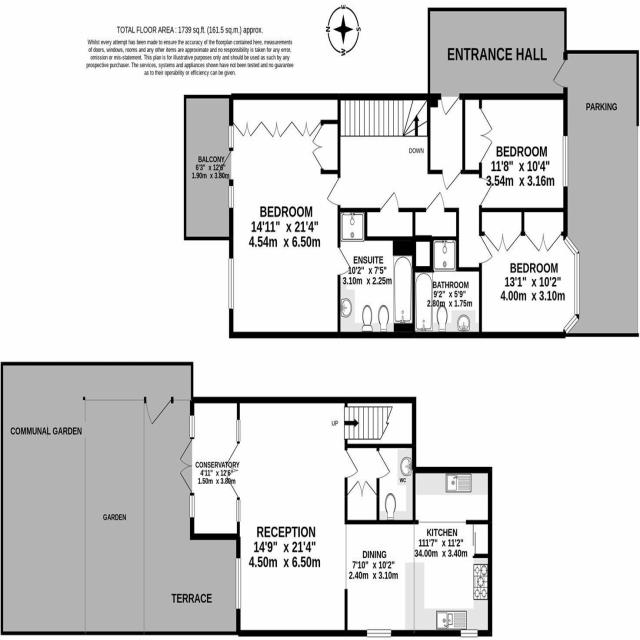DOOR: (145, 395, 172, 427), (439, 92, 463, 118), (378, 188, 402, 214), (551, 57, 569, 91), (424, 190, 448, 214), (324, 175, 341, 208), (335, 245, 352, 278), (218, 149, 234, 181), (478, 176, 494, 208), (478, 234, 494, 265), (441, 169, 462, 192)
ROOM: (224, 396, 494, 639), (214, 93, 352, 339), (478, 207, 581, 339), (462, 92, 568, 214)
WINDOW: (573, 249, 580, 316), (562, 313, 580, 336), (563, 234, 580, 257), (228, 257, 235, 310), (562, 135, 569, 188), (235, 557, 241, 610), (366, 628, 392, 638), (460, 628, 479, 638), (189, 494, 196, 519), (228, 185, 234, 209), (189, 415, 195, 439), (228, 125, 234, 148), (236, 419, 241, 443), (236, 499, 241, 523)
